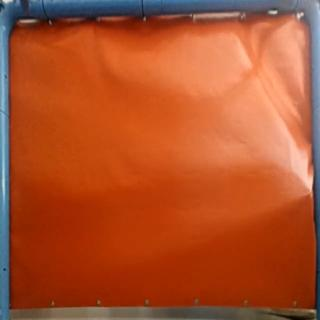Hit-hRxx: (304, 183, 316, 199)
